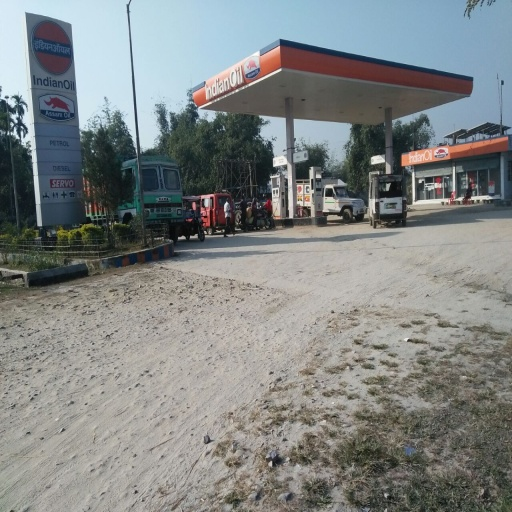roof: (192, 41, 474, 124)
